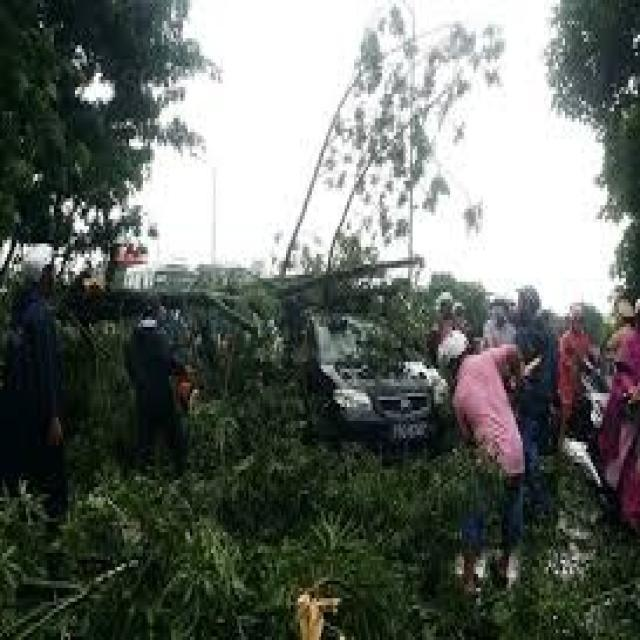fallen_object: (33, 230, 464, 386)
